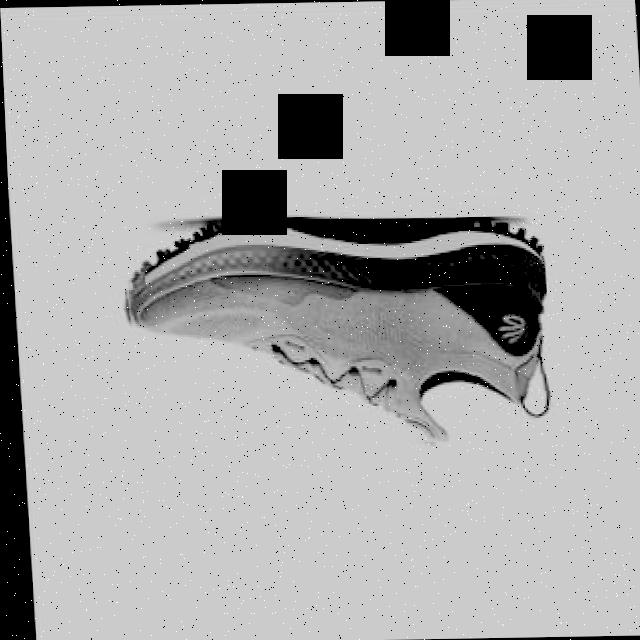shoe: (116, 216, 552, 448)
